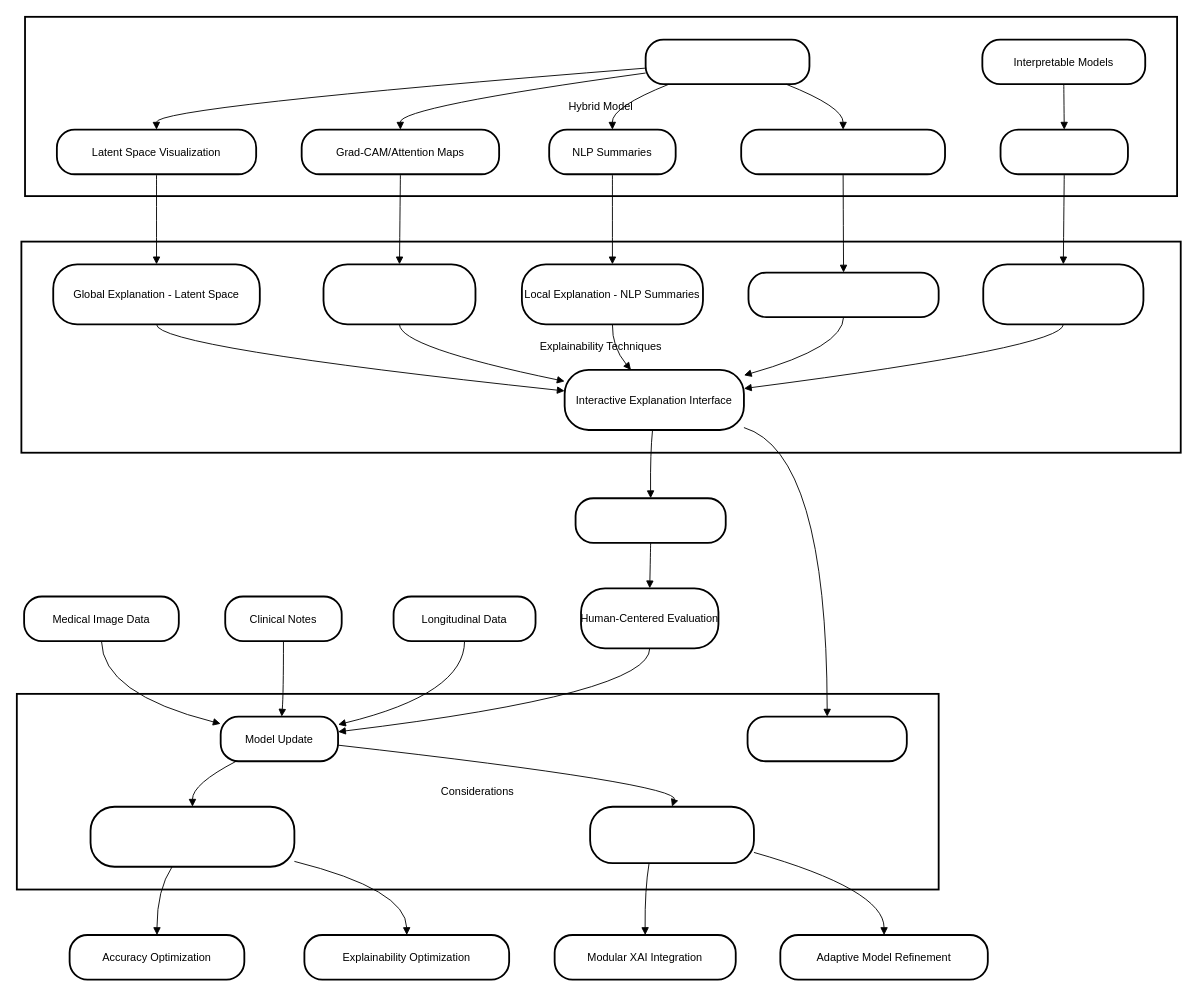
The diagram is 1197 pixels wide and 996 high, and some of its shapes have lost their labels. The shapes that lost their labels are listed below. From the top down, each one's centre as x and y in pixels, then its label:
At [727,61]: "Deep Learning Model".
At [842,151]: "Feature Importance - SHAP".
At [1063,151]: "Rule Extraction".
At [399,294]: "Local Explanation - Grad-CAM".
At [843,294]: "Local Explanation - SHAP".
At [1063,294]: "Global Explanation - Rule-Based".
At [650,520]: "Clinician Feedback".
At [826,738]: "Privacy and Security".
At [192,836]: "Performance-Explainability Trade-off".
At [671,834]: "Model Complexity Management".
